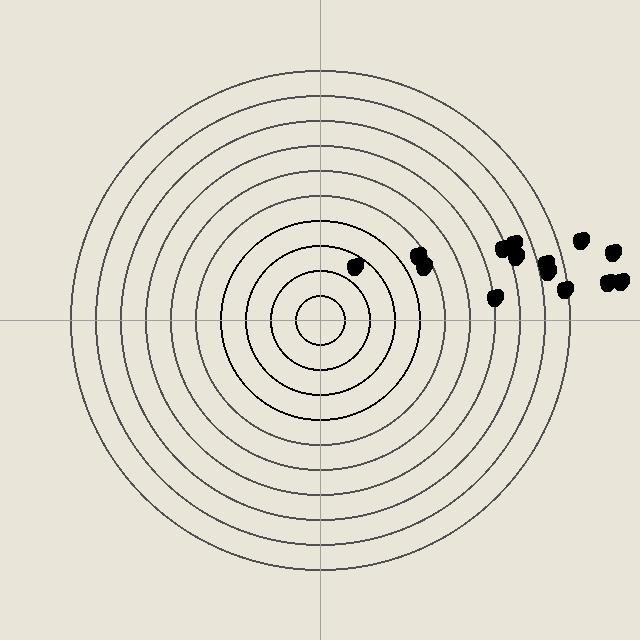horizontal_scatter: (597, 272, 617, 292), (505, 246, 525, 266), (602, 242, 622, 262), (610, 271, 630, 291), (537, 261, 557, 281), (554, 279, 574, 299), (344, 256, 364, 276), (492, 238, 512, 258), (503, 233, 523, 253), (535, 253, 555, 273), (407, 245, 427, 265), (413, 256, 433, 276), (484, 287, 504, 307), (570, 230, 590, 250)
